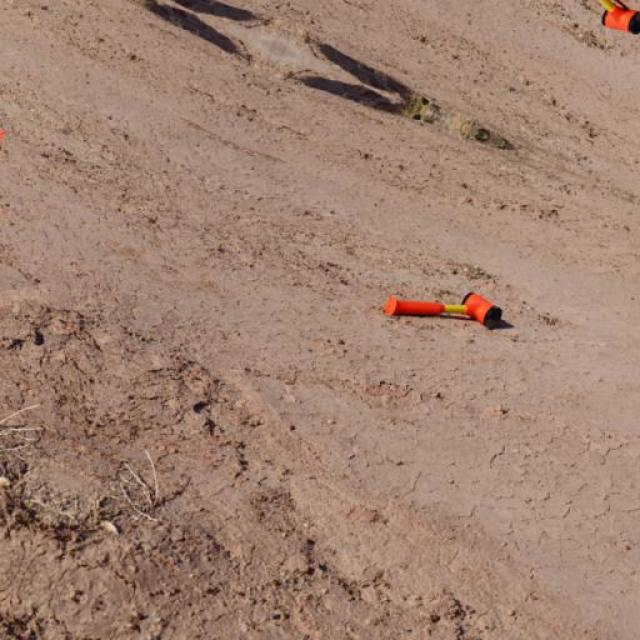mallet: (381, 290, 504, 329)
